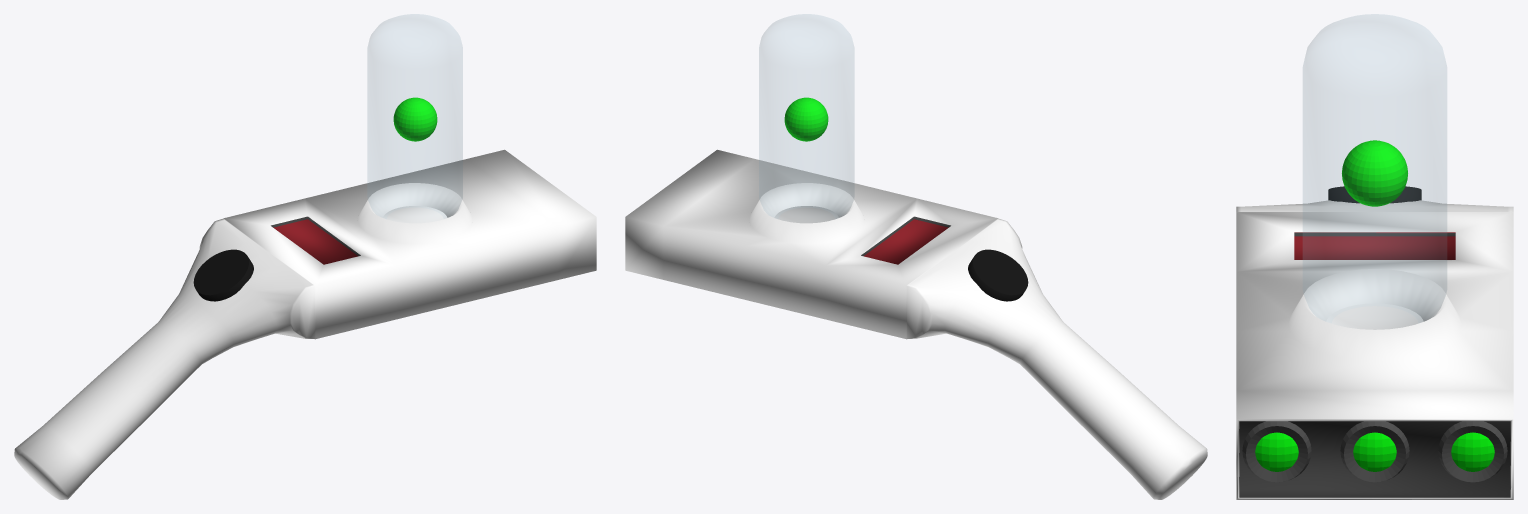
Rendered from portalgun_v2.obj.
3 views of the same model, side by side, from view 1: azimuth 30°, elevation 25°; view 2: azimuth 150°, elevation 25°; view 3: azimuth 270°, elevation 25° (orthographic). The views are drawn at different scales.
Parts seen in each view (by area): view 1: Portal_Gun_Portal_Gun_Cube.001, Bulb_Bulb_Cube.000, Spark_Spark_Sphere; view 2: Portal_Gun_Portal_Gun_Cube.001, Bulb_Bulb_Cube.000, Spark_Spark_Sphere; view 3: Portal_Gun_Portal_Gun_Cube.001, Bulb_Bulb_Cube.000, Spark_Spark_Sphere.
Part boxes in pixels (x1,y1,x2,y2): Portal_Gun_Portal_Gun_Cube.001: (14,149,596,499); Bulb_Bulb_Cube.000: (367,14,462,218); Spark_Spark_Sphere: (393,97,437,141); Portal_Gun_Portal_Gun_Cube.001: (625,149,1207,499); Bulb_Bulb_Cube.000: (759,14,854,218); Spark_Spark_Sphere: (784,97,828,141); Portal_Gun_Portal_Gun_Cube.001: (1236,186,1513,499); Bulb_Bulb_Cube.000: (1303,14,1446,322); Spark_Spark_Sphere: (1342,140,1407,206).
Size of the model in its own units: 4.43 by 3.08 by 1.34.
Materials: 3 (3 with a texture image).
